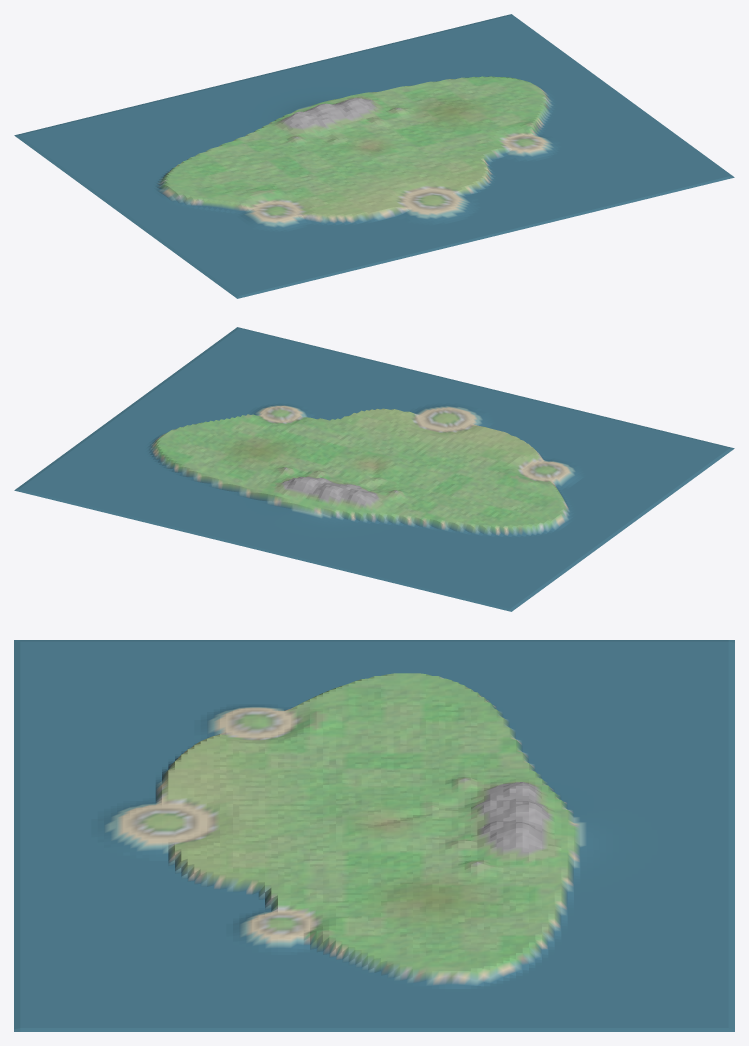
File: ASTX_TERRAIN_MAIN.glb
3 views of the same model, one above another, from view 1: azimuth 30°, elevation 25°; view 2: azimuth 150°, elevation 25°; view 3: azimuth 270°, elevation 25° (orthographic). The views are drawn at different scales.
Visible parts, largest first — view 1: ASTX_TERRAIN_main; view 2: ASTX_TERRAIN_main; view 3: ASTX_TERRAIN_main.
Part boxes in pixels (<box>): ASTX_TERRAIN_main: <box>14,14,734,298</box>; ASTX_TERRAIN_main: <box>14,327,734,611</box>; ASTX_TERRAIN_main: <box>14,640,734,1031</box>.
Size of the model in its own units: 720 by 24.72 by 560.
